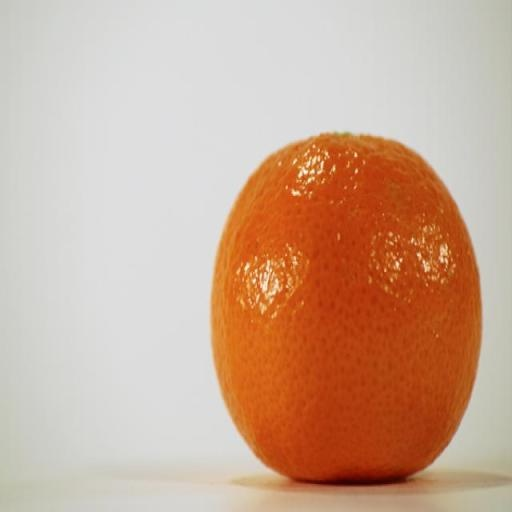fruit: (212, 134, 480, 480)
